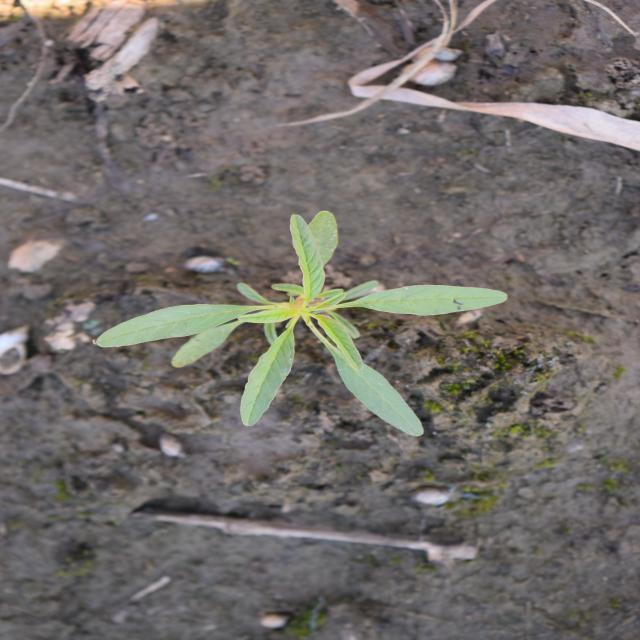Waterhemp: (92, 209, 513, 441)
